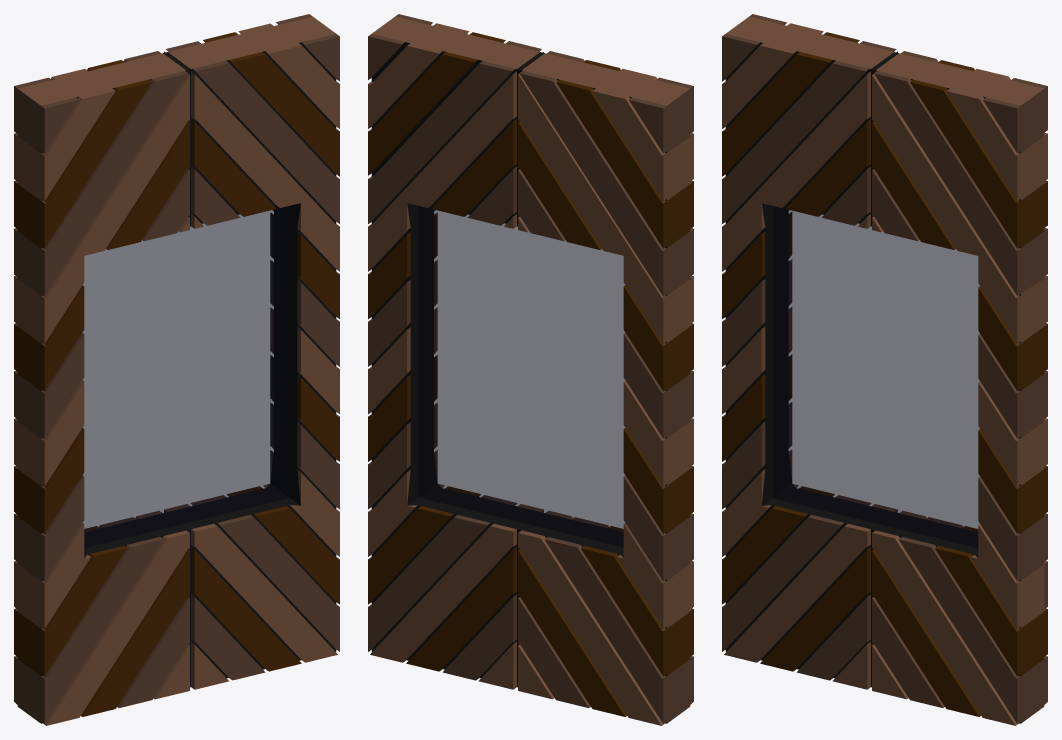
Rendered from ArrowBoardWindow.glb.
3 renders of one model, left to right at view 1: azimuth 30°, elevation 25°; view 2: azimuth 150°, elevation 25°; view 3: azimuth 330°, elevation 25°, orthographic.
Visible parts, largest first — view 1: wall_arrowBoard_window; view 2: wall_arrowBoard_window; view 3: wall_arrowBoard_window.
Part boxes in pixels (bbox=[...]): wall_arrowBoard_window: bbox=[14, 14, 339, 725]; wall_arrowBoard_window: bbox=[368, 14, 693, 725]; wall_arrowBoard_window: bbox=[722, 14, 1047, 725].
Size of what is drawn, in the model's own units: 2 by 4 by 0.358.
2 materials, 2 textured.
